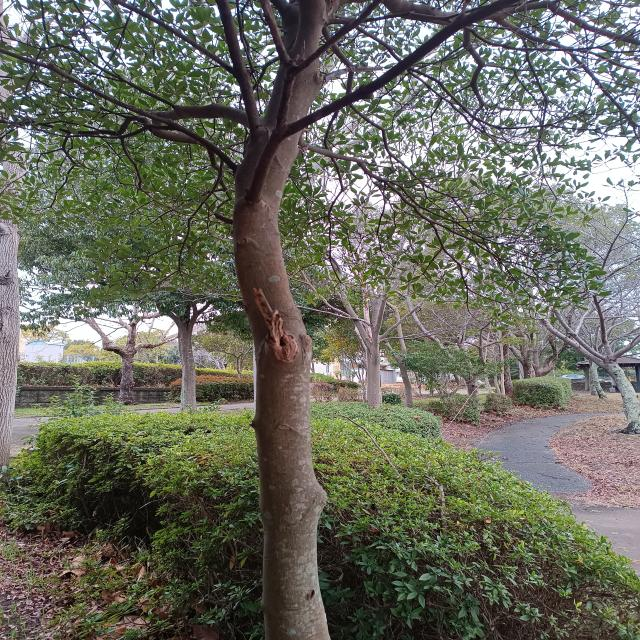Branch: (232, 3, 340, 334), (152, 104, 247, 126), (383, 0, 461, 26)
Twig: (247, 0, 534, 207), (0, 47, 235, 170), (277, 3, 384, 129), (213, 0, 262, 137), (73, 48, 175, 107), (67, 114, 174, 136), (260, 0, 290, 65), (356, 26, 400, 61), (23, 135, 80, 154), (119, 139, 141, 188), (365, 11, 450, 22), (80, 127, 146, 139), (18, 121, 68, 135), (325, 19, 352, 25)
